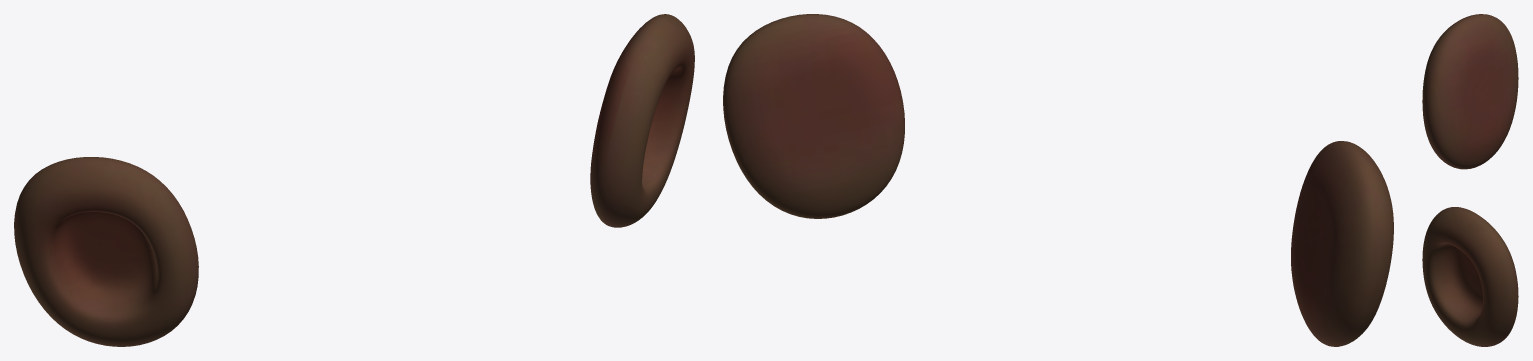
Rendered from ear1.glb.
The picture shows the model from 3 angles, left to right: view 1: azimuth 30°, elevation 25°; view 2: azimuth 150°, elevation 25°; view 3: azimuth 270°, elevation 25°; orthographic projection. The views are drawn at different scales.
Parts seen in each view (by area): view 1: ears.000; view 2: ears.000; view 3: ears.000.
Part boxes in pixels (x1,y1,x2,y2): ears.000: [14, 14, 694, 346]; ears.000: [723, 14, 1393, 346]; ears.000: [1422, 14, 1518, 346].
Size of the model in its own units: 1.74 by 0.4844 by 0.303.
Materials: 1 (1 with a texture image).
